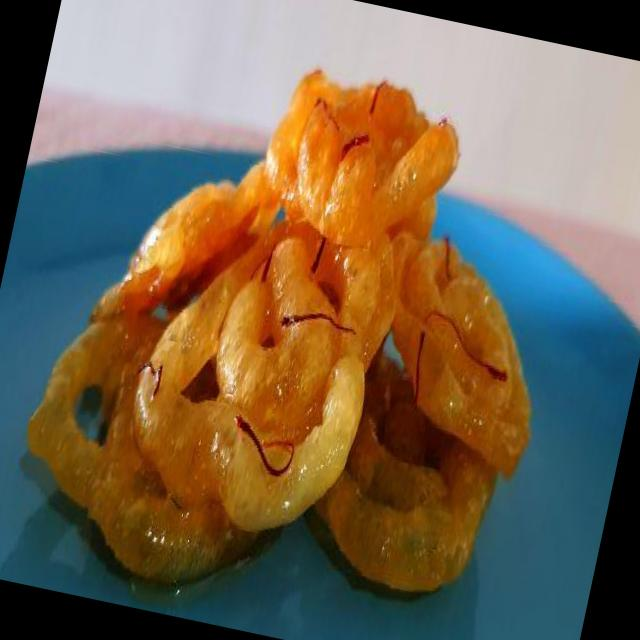jalebi: (24, 5, 466, 593), (320, 256, 561, 588)
